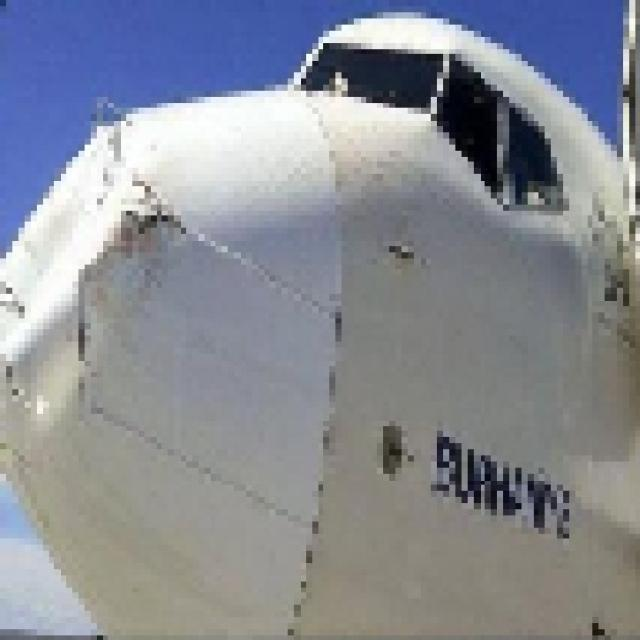dent: (3, 110, 185, 392)
